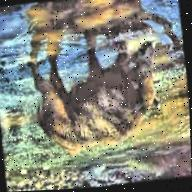boar: (15, 29, 169, 169)
